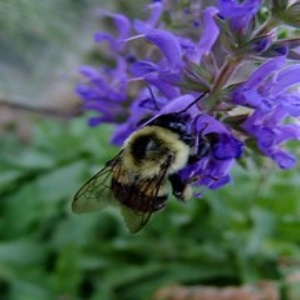bee: (68, 112, 203, 236)
